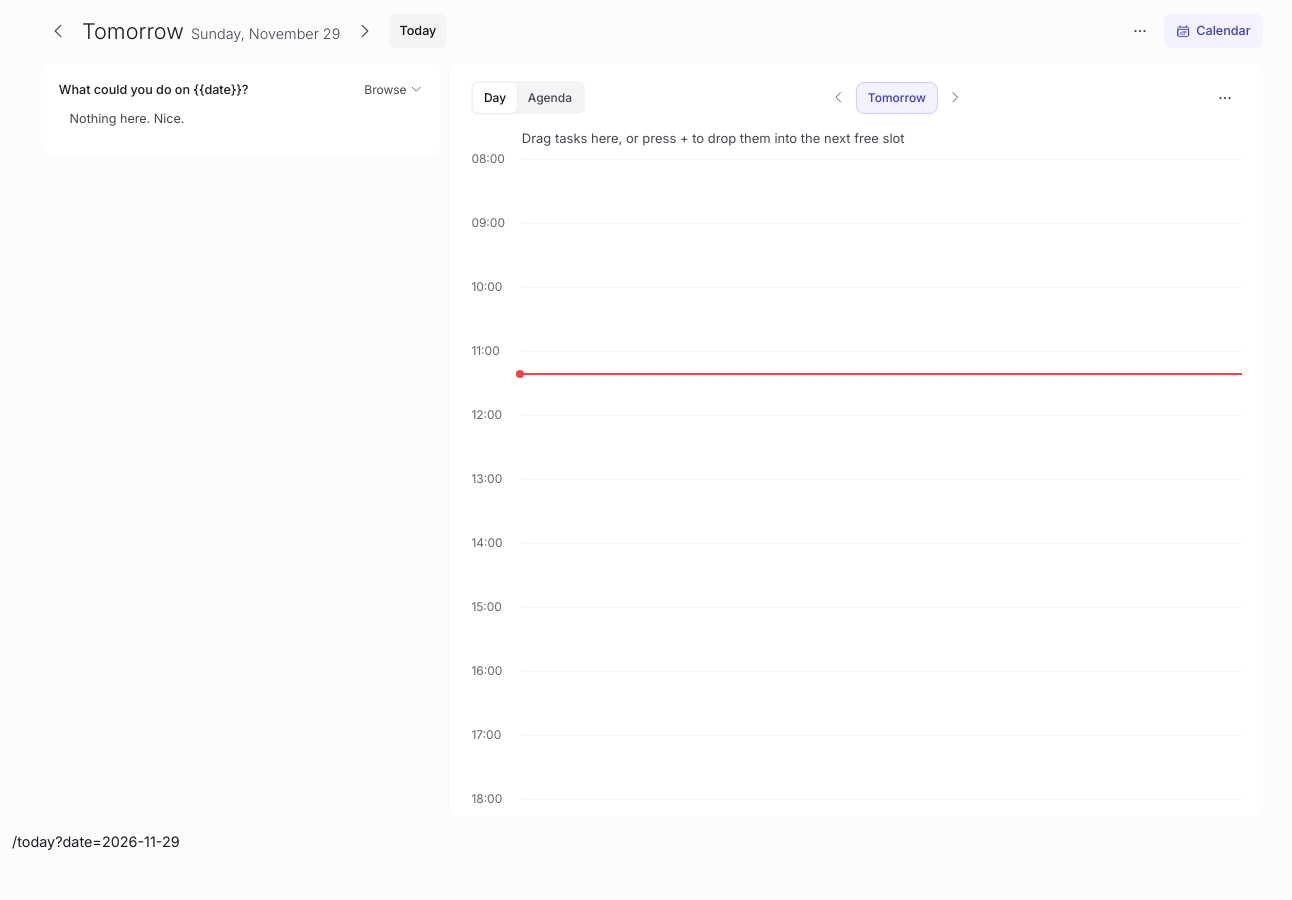
Scenario: TodayPage routing and panel mode › returns to today from the Today button
Click the button with test id "day-today" at (418, 31), box [389,14,447,48]
(page scrolled)
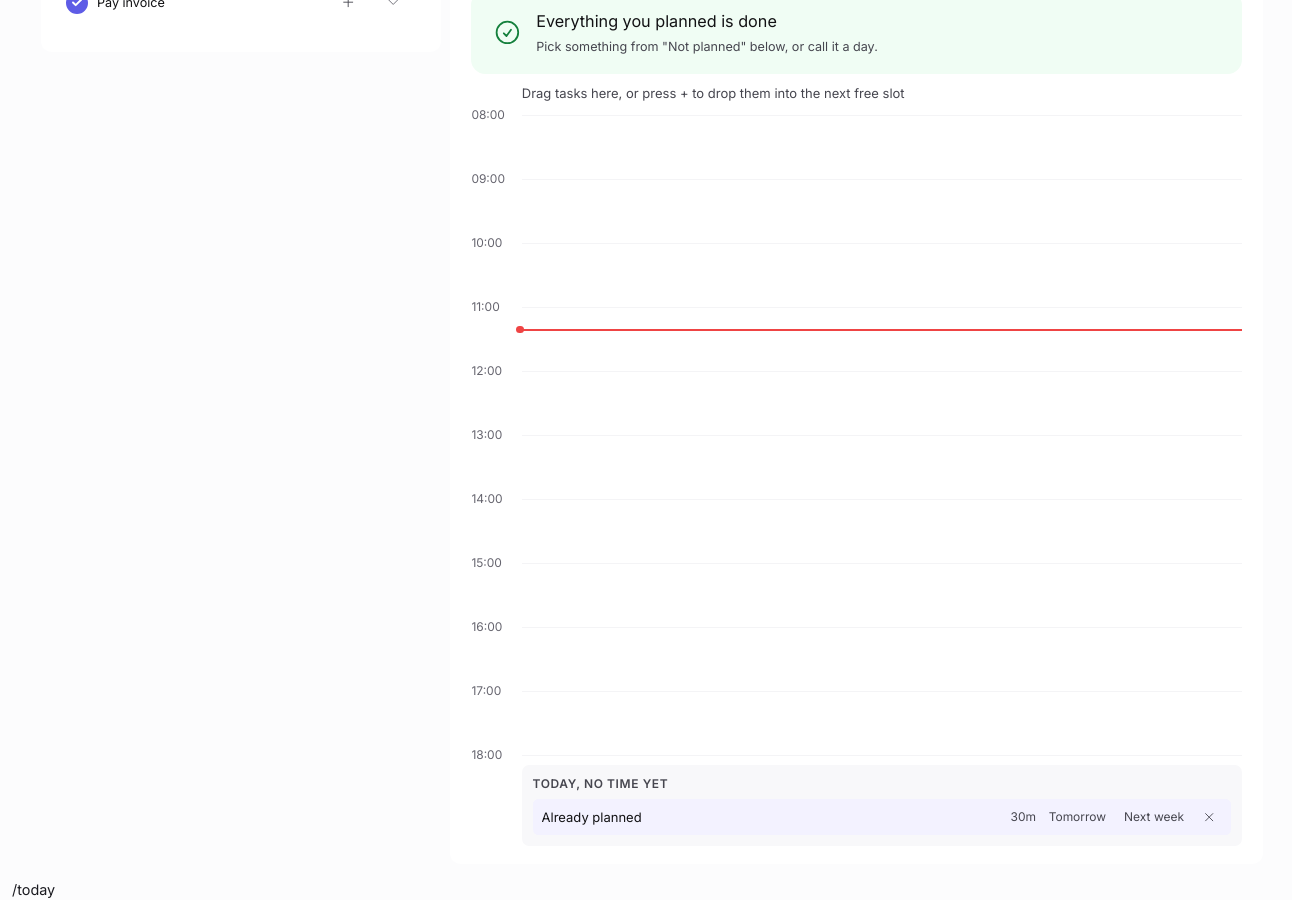
Now the text with test id "location" reads "/today", box [12,881,55,898]
